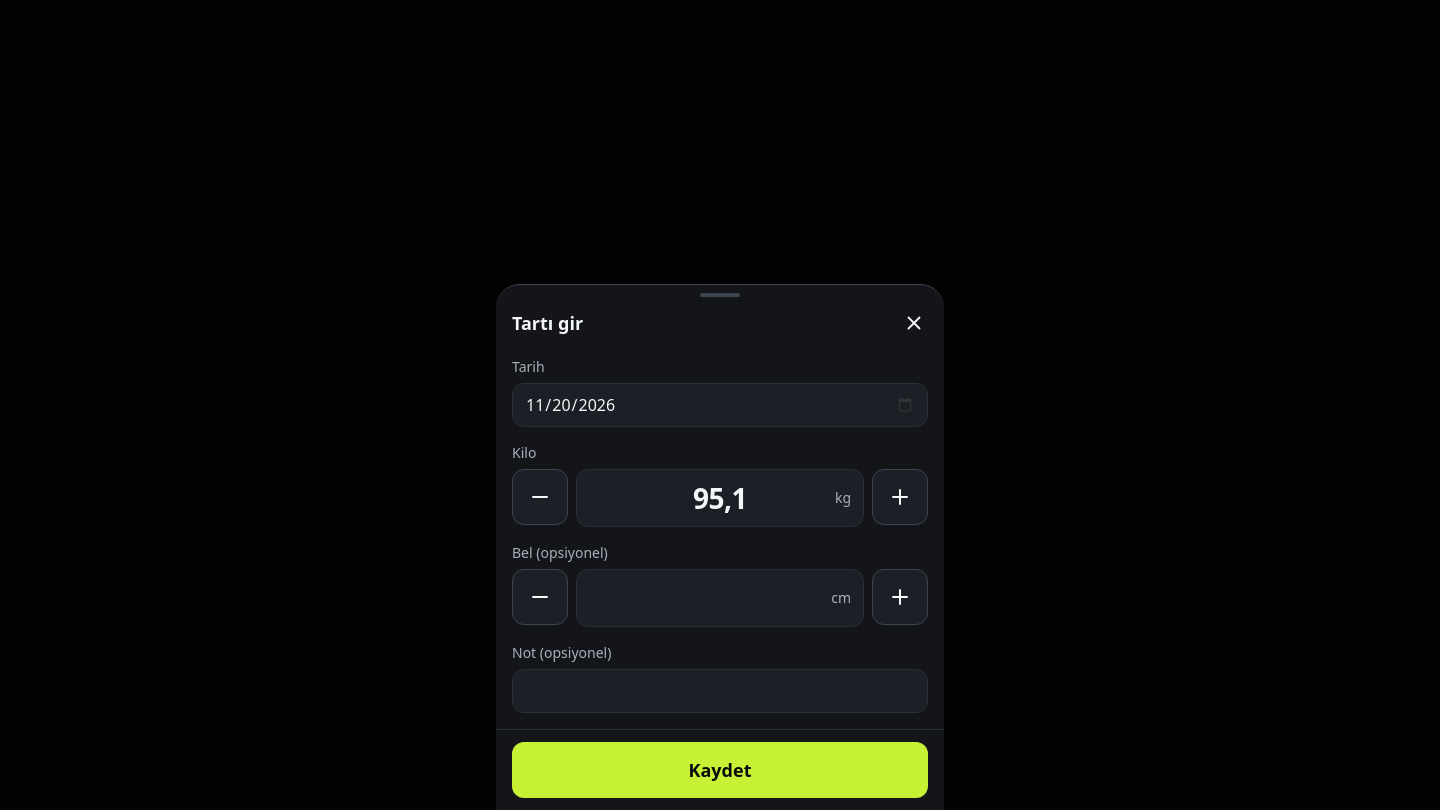
it: WeighInSheet › steps the weight by 0.1 kg
Click the button named "Kilo azalt" at (540, 497), box [512, 469, 568, 525]
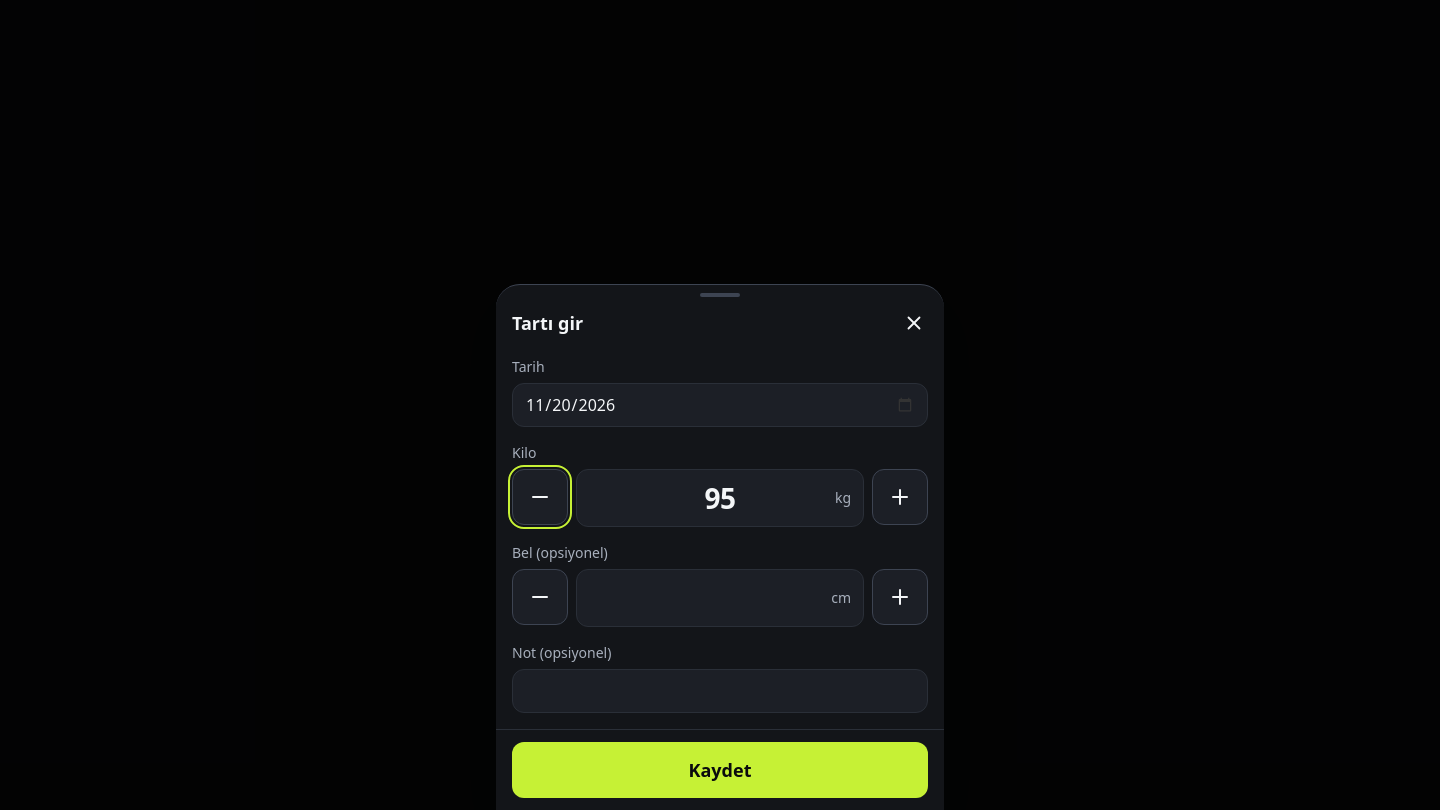
Result: the field labelled "Kilo" holds "95" at [577, 470, 863, 526]
